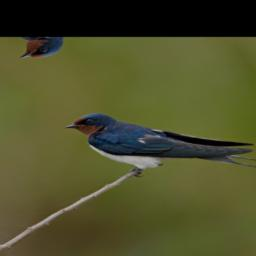Swallow: (61, 71, 256, 221)
